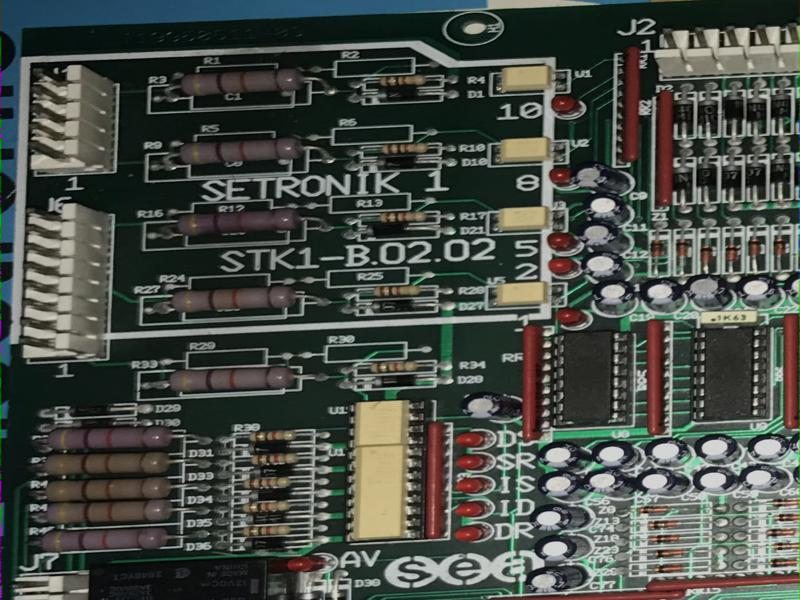Capacitor: (457, 391, 524, 424), (575, 159, 632, 196), (524, 564, 590, 595), (633, 467, 694, 500), (685, 273, 734, 314), (577, 221, 632, 257), (529, 503, 591, 534), (734, 271, 782, 311), (535, 469, 591, 503), (639, 277, 687, 316), (692, 432, 744, 468), (532, 534, 594, 564), (589, 438, 643, 472), (581, 251, 633, 286), (536, 442, 592, 474), (584, 469, 640, 501), (591, 281, 638, 318), (582, 193, 632, 227), (740, 463, 792, 494), (644, 437, 694, 469), (690, 466, 742, 496), (746, 433, 789, 464)
Diode: (370, 86, 427, 104), (242, 486, 297, 504), (366, 298, 417, 316), (769, 92, 793, 128), (237, 511, 291, 526), (362, 223, 411, 239), (672, 95, 695, 129), (723, 92, 746, 126), (696, 96, 718, 131), (239, 536, 286, 552), (369, 374, 419, 389), (745, 95, 769, 125), (769, 155, 791, 187), (372, 155, 421, 169), (721, 161, 741, 195), (696, 162, 717, 192), (745, 161, 765, 191), (242, 442, 291, 454), (675, 164, 692, 194), (648, 518, 682, 531), (644, 534, 683, 545), (772, 235, 787, 263), (638, 504, 670, 517), (768, 539, 800, 552), (766, 557, 800, 569), (766, 526, 800, 538), (651, 563, 688, 574), (747, 235, 762, 262), (724, 238, 738, 266), (648, 549, 687, 559), (700, 241, 714, 267), (767, 498, 800, 509), (676, 238, 690, 263), (650, 238, 664, 262), (770, 512, 800, 523)
LED: (285, 553, 329, 575), (547, 165, 581, 192), (546, 229, 581, 254), (550, 94, 584, 119), (454, 429, 495, 449), (553, 308, 592, 328), (451, 524, 491, 543), (454, 453, 493, 472), (455, 499, 492, 519), (455, 476, 493, 495), (547, 256, 579, 278)
Resistor: (161, 364, 299, 397), (173, 65, 308, 98), (41, 496, 179, 528), (37, 524, 174, 556), (172, 206, 303, 238), (167, 284, 302, 313), (171, 136, 310, 164), (44, 423, 177, 452), (41, 477, 177, 503), (41, 452, 172, 476), (366, 358, 421, 374), (376, 72, 428, 88), (371, 283, 423, 299), (247, 453, 304, 467), (379, 140, 431, 155), (240, 499, 295, 513), (244, 428, 298, 442), (239, 524, 292, 538), (246, 476, 295, 490), (374, 209, 426, 222)
